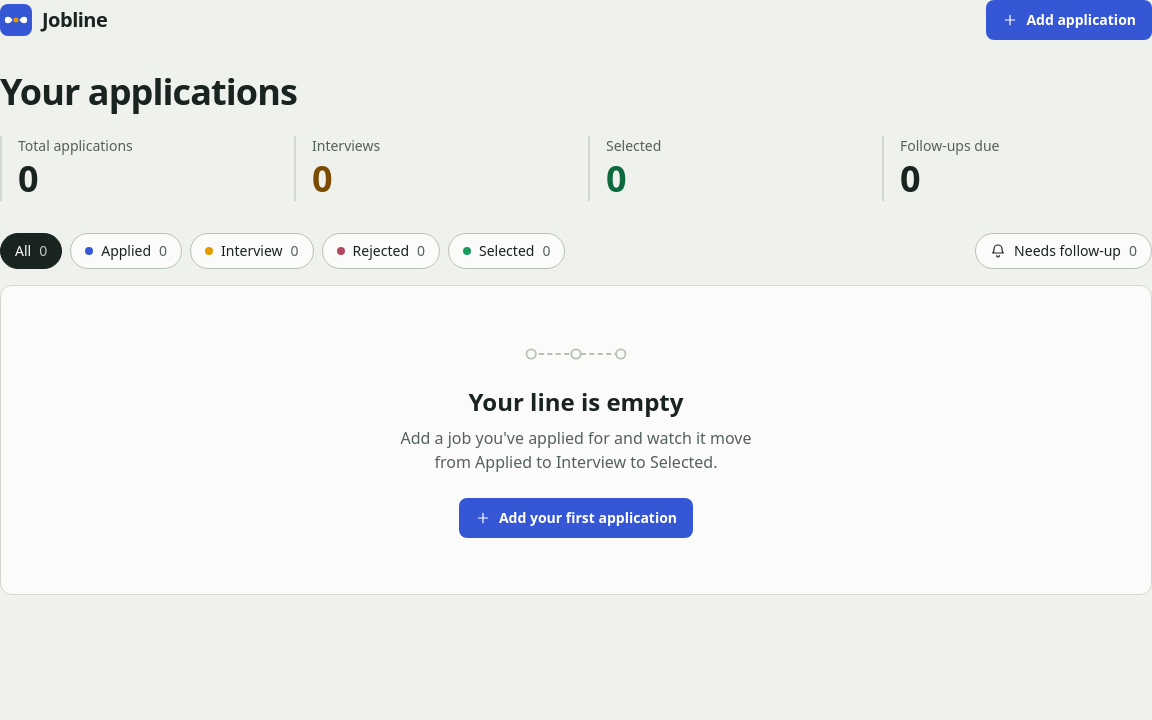
Test case: Jobline UI › adds an application, shows it in the list and updates the summary
Expected: the heading "Your line is empty" is shown, [469, 386, 684, 418]
Click the button "Add application".
click(1069, 20)  # box [986, 0, 1151, 40]
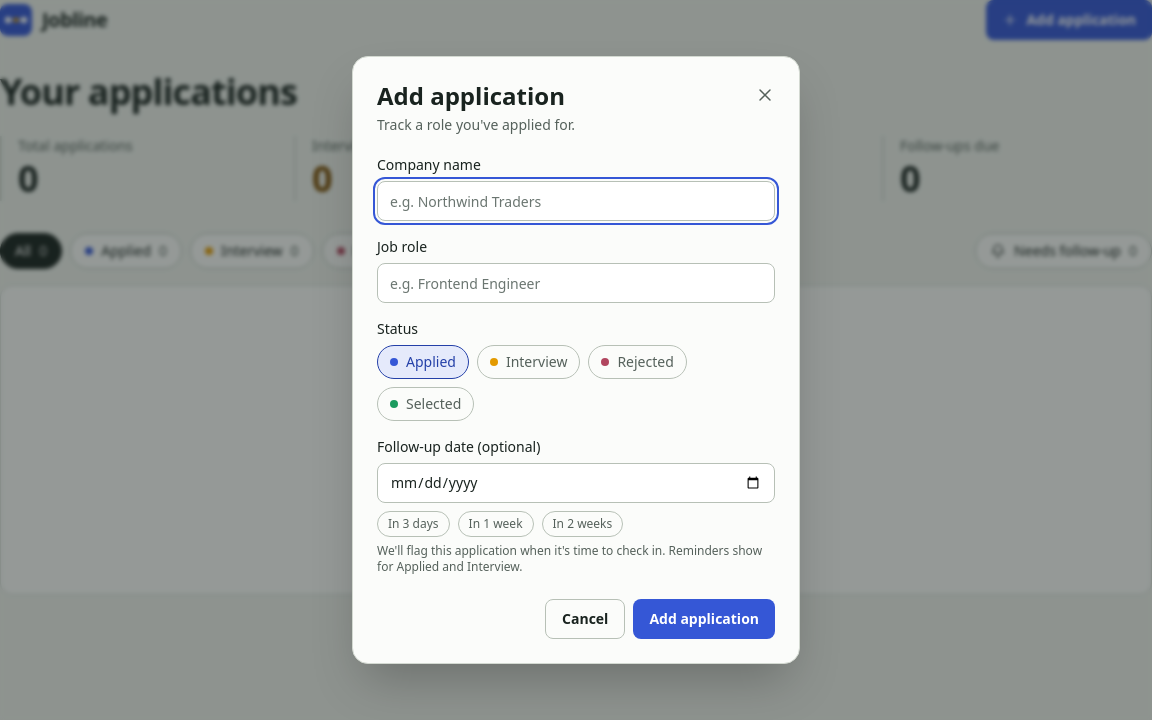
Type "Acme Corp" into the field labelled "Company name".
click(576, 201); type("Acme Corp")  # box [377, 181, 775, 221]
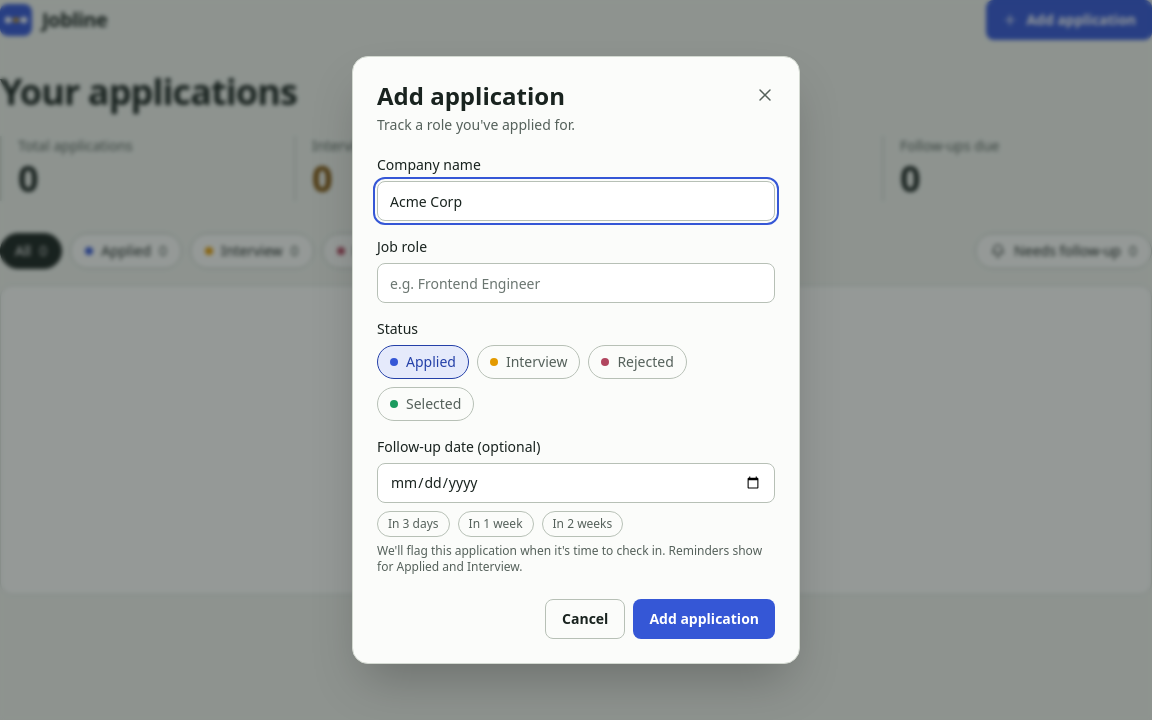
Type "Frontend Engineer" into the field labelled "Job role".
click(576, 283); type("Frontend Engineer")  # box [377, 263, 775, 303]
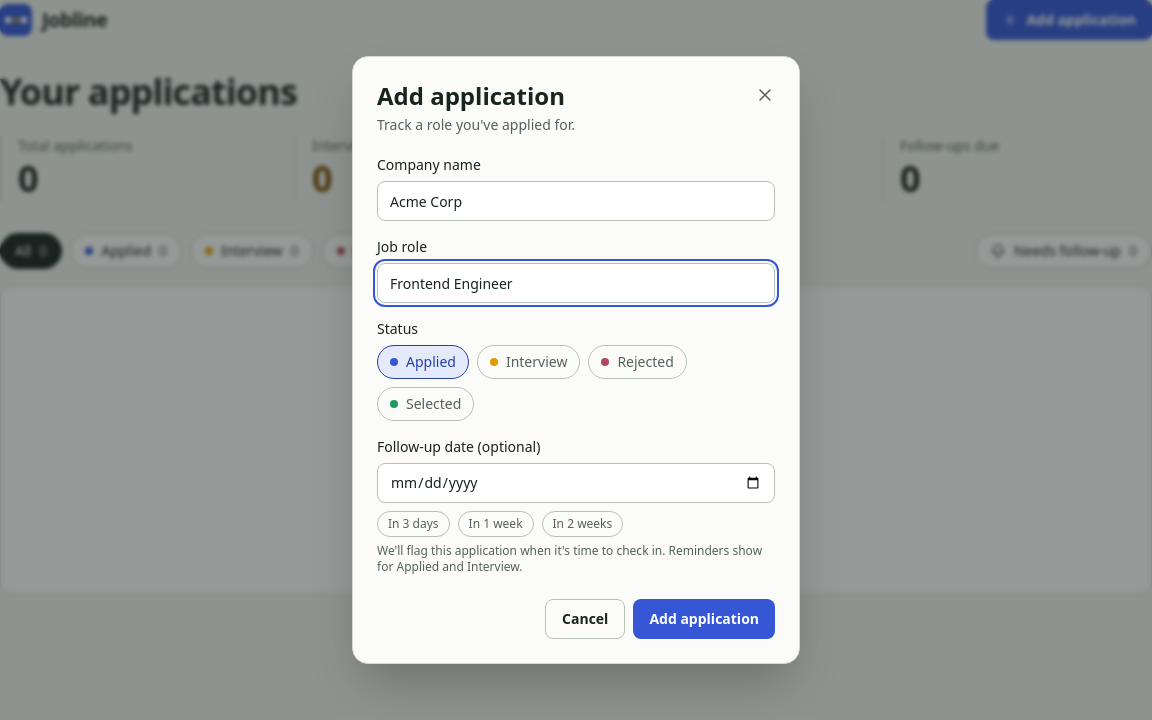
Click the button "Add application".
click(704, 619)  # box [633, 599, 775, 639]
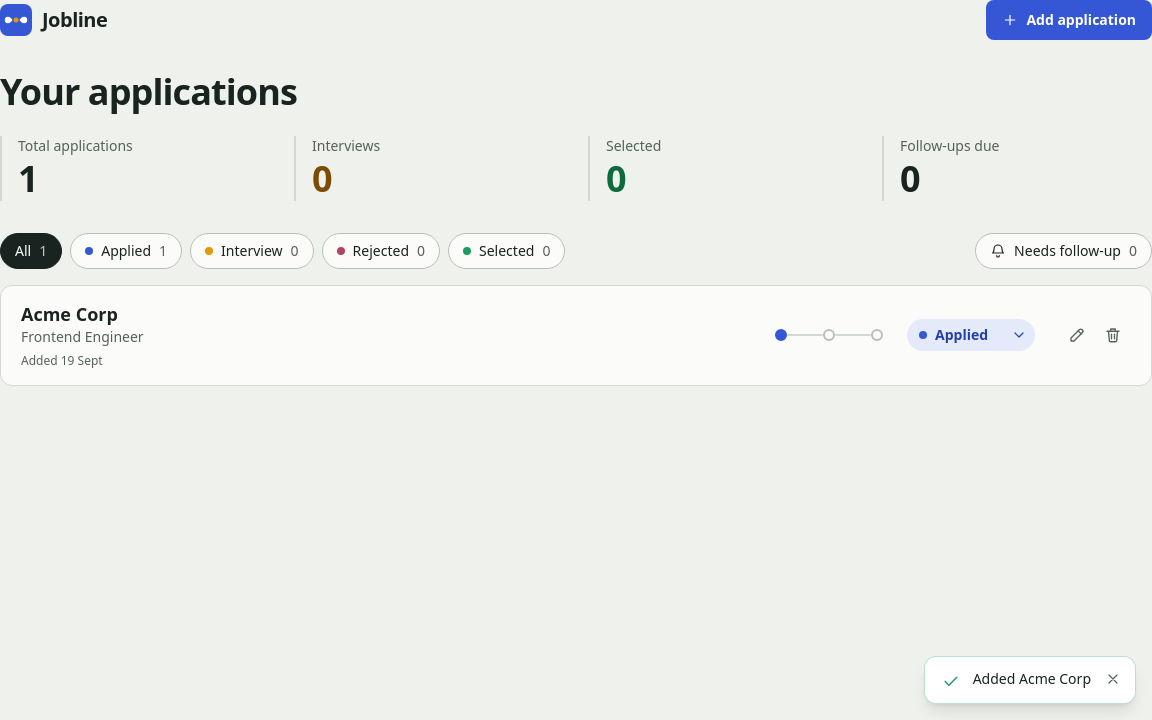
Expected: the dialog is gone
Expected: the text "Acme Corp" is shown, [21, 302, 118, 326]
Expected: the text "Frontend Engineer" is shown, [21, 327, 144, 346]
